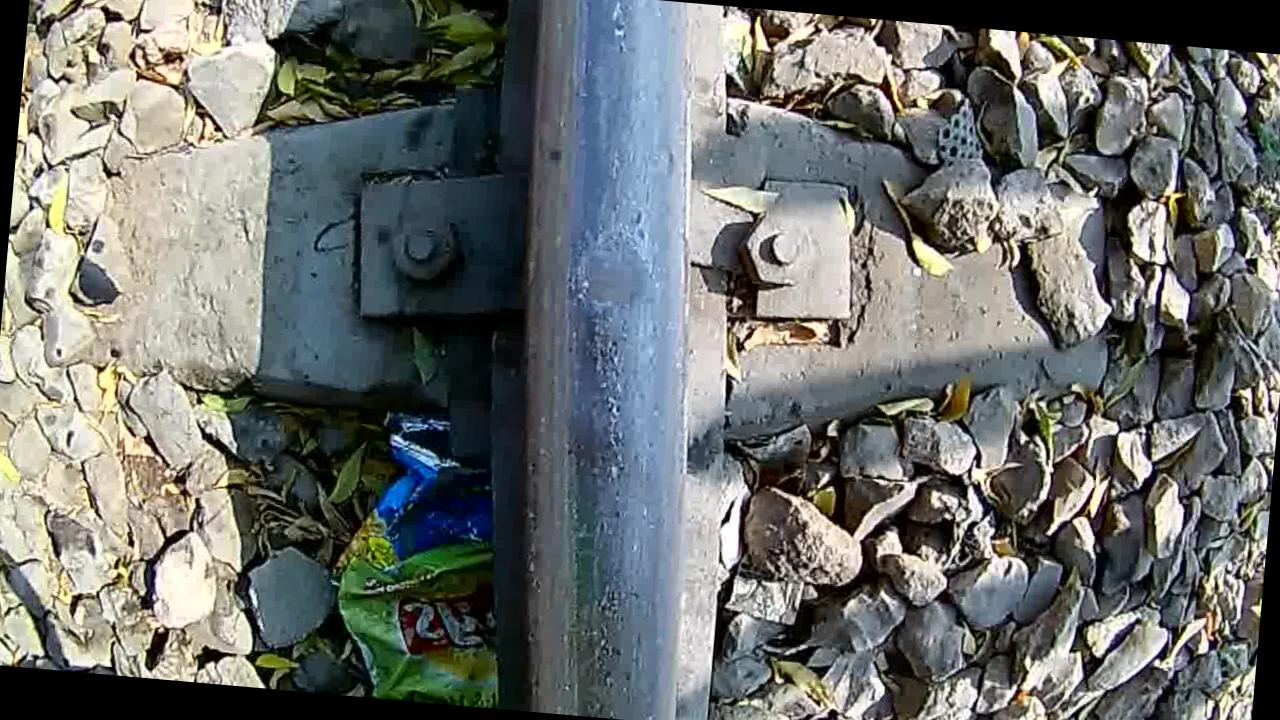bolt_missing: (518, 197, 706, 410)
